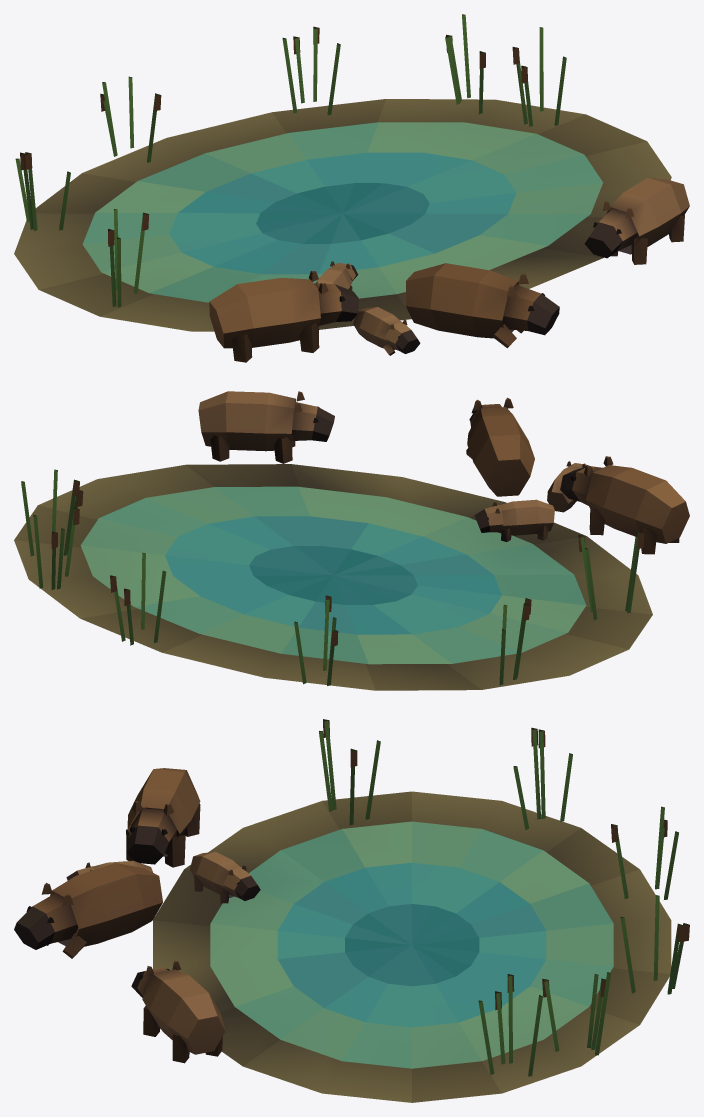
The model's file is chiguiros.glb.
The picture shows the model from 3 angles, top to bottom: view 1: azimuth 30°, elevation 25°; view 2: azimuth 150°, elevation 25°; view 3: azimuth 270°, elevation 25°; orthographic projection. The views are drawn at different scales.
Parts seen in each view (by area): view 1: pond, capybara_2, capybara_1, reeds, capybara_3, capybara_baby_2, capybara_baby_1; view 2: pond, capybara_1, capybara_3, reeds, capybara_2, capybara_baby_1, capybara_baby_2; view 3: pond, reeds, capybara_2, capybara_3, capybara_1, capybara_baby_1.
Part boxes in pixels (x1,y1,x2,y2): pond: (14,99,671,331); capybara_2: (405,263,559,348); capybara_1: (209,270,358,362); reeds: (15,14,566,307); capybara_3: (584,178,689,264); capybara_baby_2: (353,307,420,355); capybara_baby_1: (316,261,358,290); pond: (14,464,652,690); capybara_1: (560,456,689,554); capybara_3: (198,391,334,463); reeds: (21,469,644,685); capybara_2: (466,397,534,496); capybara_baby_1: (474,499,554,541); capybara_baby_2: (547,461,589,512); pond: (153,791,671,1102); reeds: (319,719,689,1076); capybara_2: (14,863,162,958); capybara_3: (131,960,225,1063); capybara_1: (126,768,200,867); capybara_baby_1: (190,851,260,904).
Size of the model in its own units: 25.2 by 3.4 by 23.11.
